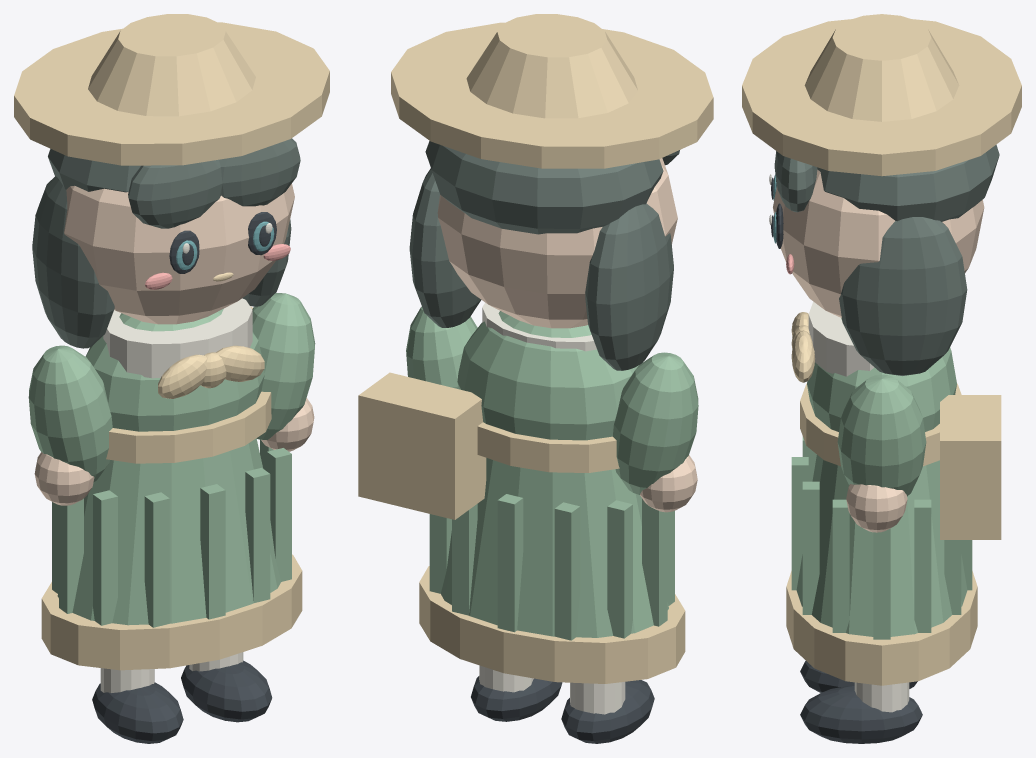
File: Traveler.fbx
3 renders of one model, left to right at view 1: azimuth 30°, elevation 25°; view 2: azimuth 150°, elevation 25°; view 3: azimuth 270°, elevation 25°, orthographic. The views are drawn at different scales.
Parts seen in each view (by area): view 1: StrawHat, Dress, Head, HatTop, DressHem, Sleeve.001, Torso, HairSide.001, Sleeve, Collar, Belt, Fringe.001 (+20 smaller); view 2: StrawHat, Dress, Satchel, Torso, Head, HatTop, HairCap, DressHem, HairSide.001, Sleeve.001, HairSide, Belt (+14 smaller); view 3: StrawHat, HairSide, HatTop, Dress, Head, DressHem, Satchel, Sleeve, HairCap, Torso, Shoe, Collar (+13 smaller).
Boxes of the visible parts, bbox=[...] form: StrawHat: bbox=[14, 22, 329, 165]; Dress: bbox=[57, 438, 280, 625]; Head: bbox=[64, 183, 294, 324]; HatTop: bbox=[88, 14, 255, 116]; DressHem: bbox=[41, 554, 302, 670]; Sleeve.001: bbox=[28, 345, 112, 482]; Torso: bbox=[85, 308, 264, 431]; HairSide.001: bbox=[32, 176, 114, 348]; Sleeve: bbox=[252, 293, 315, 439]; Collar: bbox=[103, 298, 252, 378]; Belt: bbox=[106, 391, 271, 463]; Fringe.001: bbox=[128, 159, 222, 228]; StrawHat: bbox=[391, 22, 713, 168]; Dress: bbox=[440, 458, 668, 637]; Satchel: bbox=[358, 372, 486, 519]; Torso: bbox=[457, 311, 638, 440]; Head: bbox=[437, 158, 677, 328]; HatTop: bbox=[466, 14, 637, 118]; HairCap: bbox=[425, 141, 663, 234]; DressHem: bbox=[419, 566, 685, 683]; HairSide.001: bbox=[585, 203, 673, 370]; Sleeve.001: bbox=[612, 352, 698, 494]; HairSide: bbox=[409, 168, 481, 327]; Belt: bbox=[477, 422, 619, 472]; StrawHat: bbox=[742, 19, 1021, 176]; HairSide: bbox=[839, 217, 967, 375]; HatTop: bbox=[804, 14, 959, 121]; Dress: bbox=[796, 455, 967, 636]; Head: bbox=[773, 169, 984, 317]; DressHem: bbox=[786, 571, 977, 685]; Satchel: bbox=[940, 395, 1001, 539]; Sleeve: bbox=[837, 374, 926, 496]; HairCap: bbox=[817, 144, 999, 221]; Torso: bbox=[807, 318, 956, 431]; Shoe: bbox=[800, 686, 922, 743]; Collar: bbox=[808, 301, 874, 376].
Size of the model in its own units: 96 by 220 by 82.
